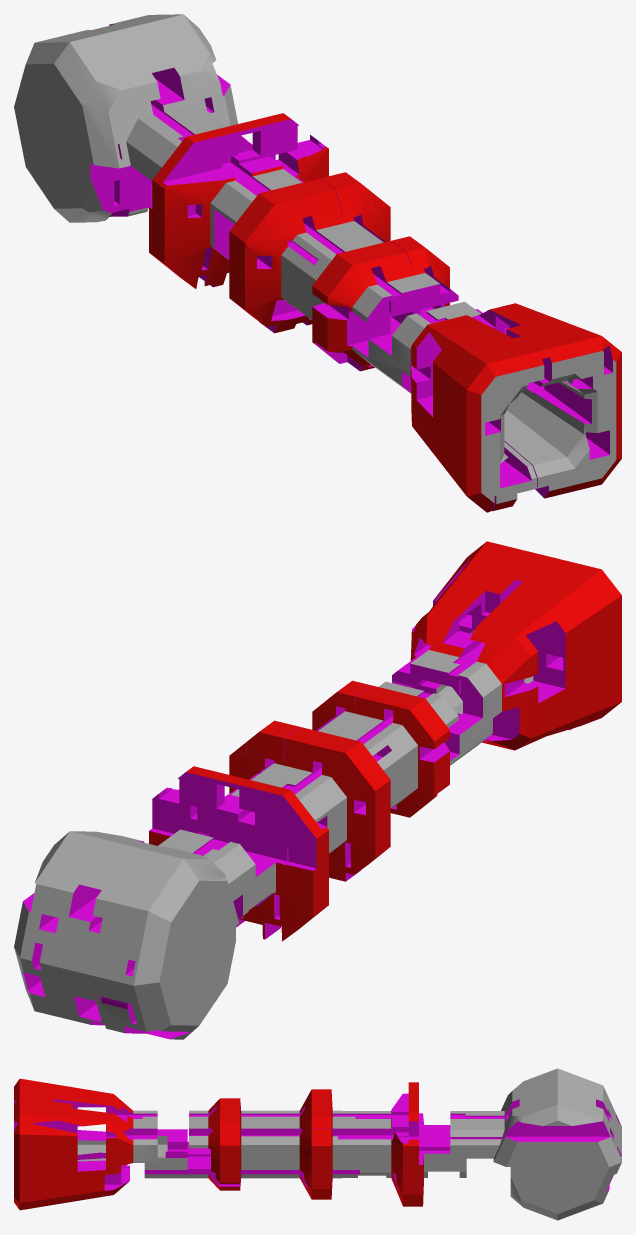
The model's file is Enemy_TurretBarrel_Var3_Glitch.fbx.
The picture shows the model from 3 angles, top to bottom: view 1: azimuth 30°, elevation 25°; view 2: azimuth 150°, elevation 25°; view 3: azimuth 270°, elevation 25°; orthographic projection. The views are drawn at different scales.
Visible parts, largest first — view 1: Enemy_Turret_Barrel_Var12; view 2: Enemy_Turret_Barrel_Var12; view 3: Enemy_Turret_Barrel_Var12.
Boxes of the visible parts, x1,y1,x2,y2 form: Enemy_Turret_Barrel_Var12: (14,14,621,512); Enemy_Turret_Barrel_Var12: (14,541,621,1039); Enemy_Turret_Barrel_Var12: (14,1068,621,1220).
Size of the model in its own units: 0.9515 by 0.9995 by 4.73.
